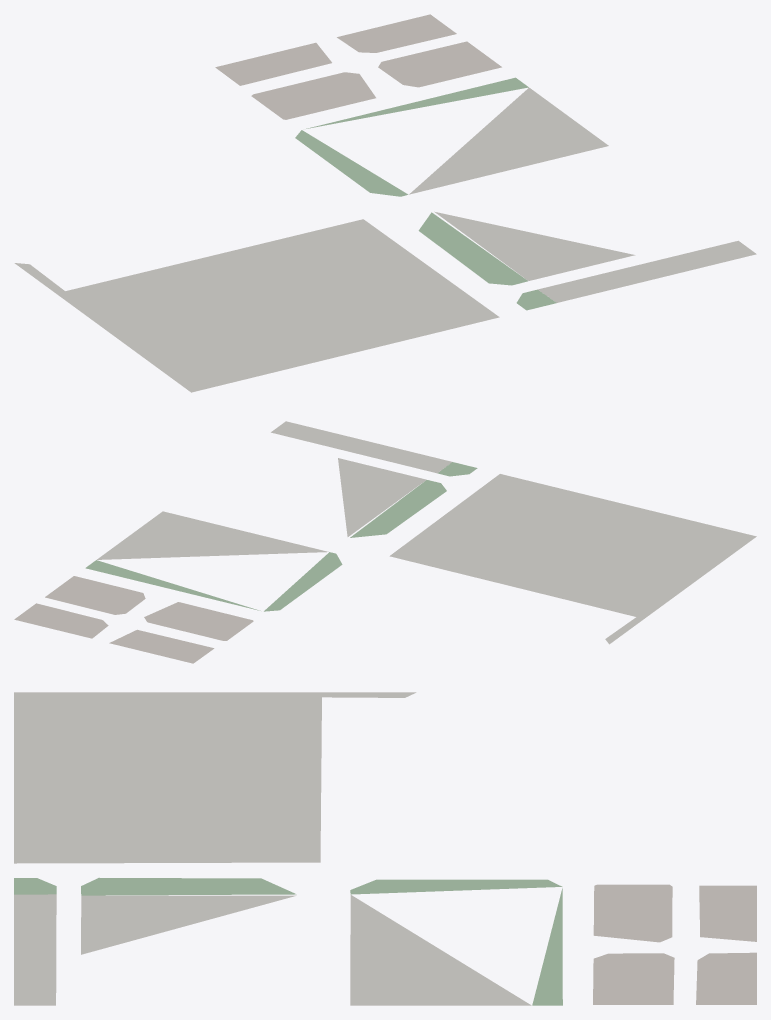
File: 123_70_mid.glb
3 views of the same model, one above another, from view 1: azimuth 30°, elevation 25°; view 2: azimuth 150°, elevation 25°; view 3: azimuth 270°, elevation 25° (orthographic). The views are drawn at different scales.
Bounding box in the file's own units: 500 × 1 × 500.
